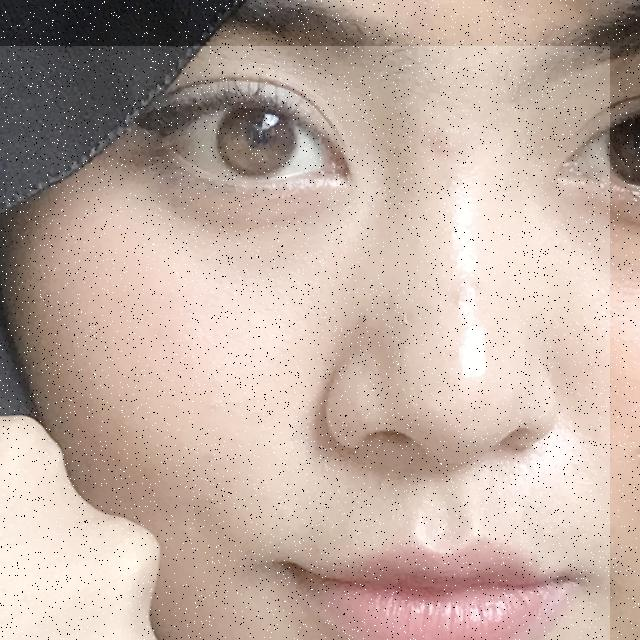telpon: (0, 46, 610, 640)
